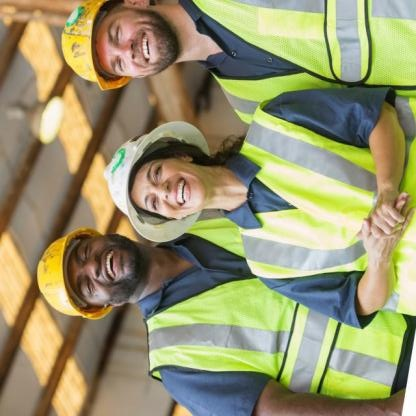vest: (139, 224, 404, 406), (234, 94, 407, 317), (200, 1, 412, 129)
white: (101, 114, 210, 256)
yellow: (34, 222, 115, 327), (58, 3, 134, 98)
